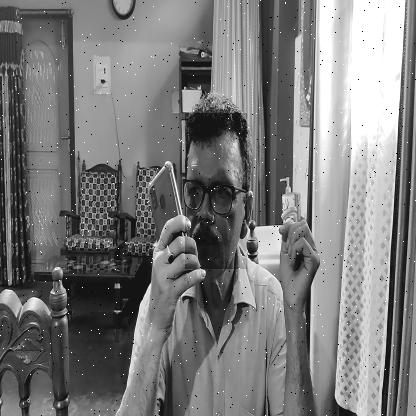Distracted: (185, 113, 247, 269)
